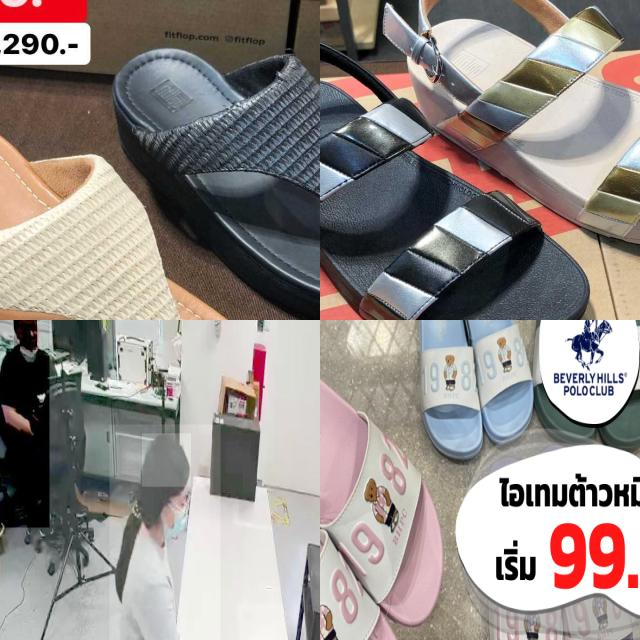Sandals: (320, 12, 599, 320), (367, 0, 640, 258), (0, 104, 320, 320), (100, 26, 320, 320), (320, 320, 457, 640), (401, 320, 536, 465)
face_mask: (154, 488, 193, 541)
face_nomask: (14, 320, 37, 350)
head_nohelmet: (142, 433, 192, 488)
person: (109, 424, 220, 640), (0, 320, 50, 528)
